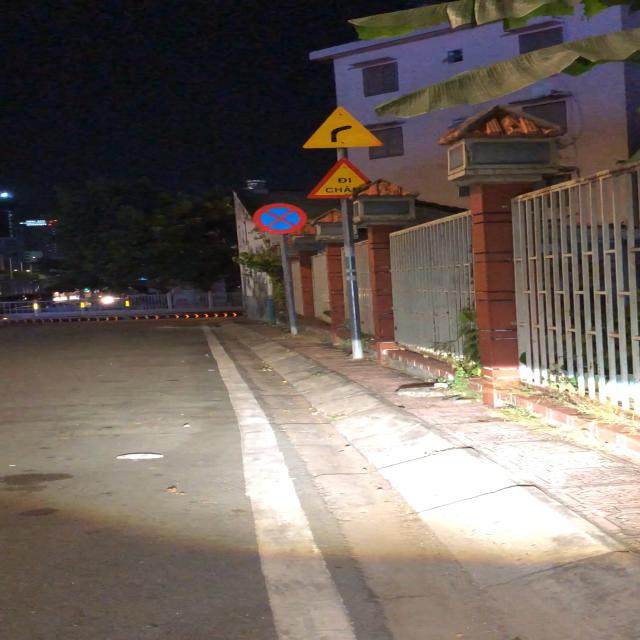Bien bao cam dung xe va do xe: (251, 203, 308, 235)
Bien bao cho ngoat nguy hiem: (300, 106, 389, 150)
Bien bao di cham: (302, 157, 374, 199)
